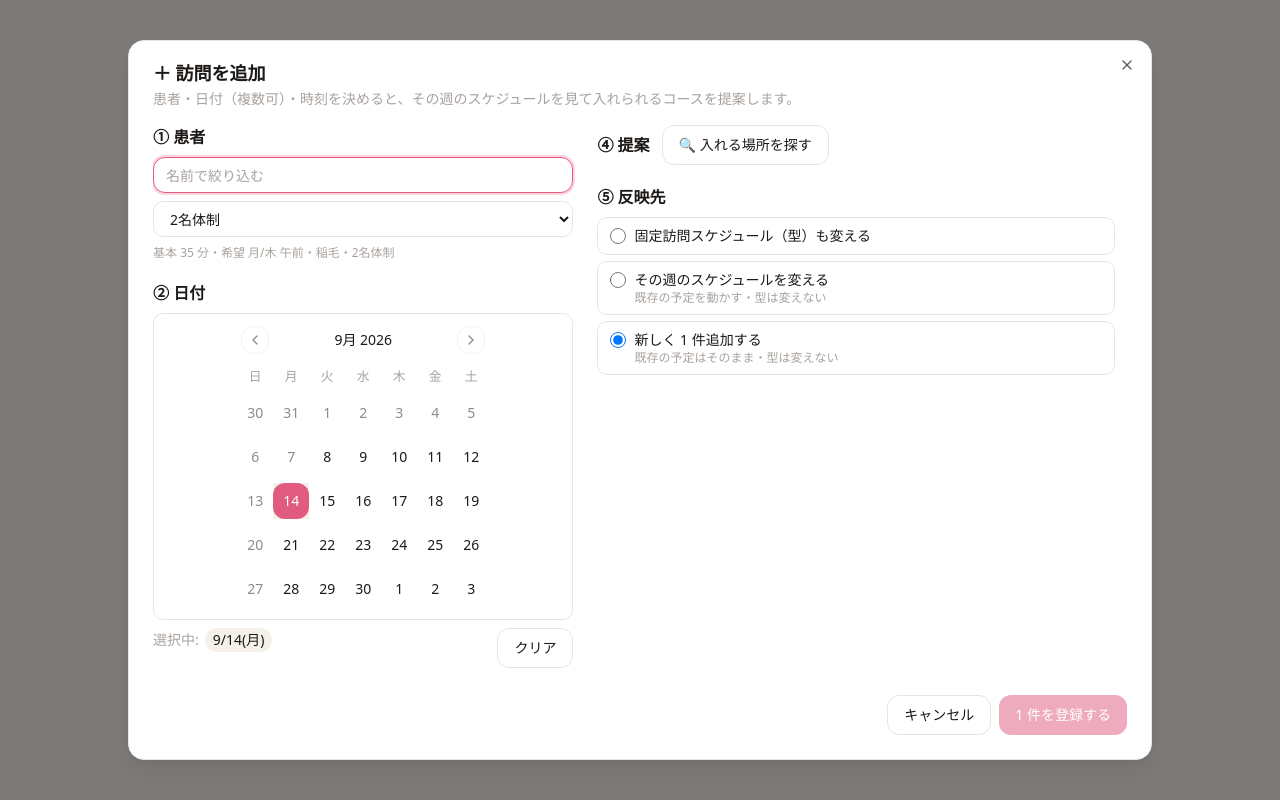
Test: AddVisitAnywhereDialog › H2 2 名体制の患者を M へ入れようとすると行エラーで止まる
Click the button with test id "ava-propose" at (745, 145), box [662, 125, 829, 165]
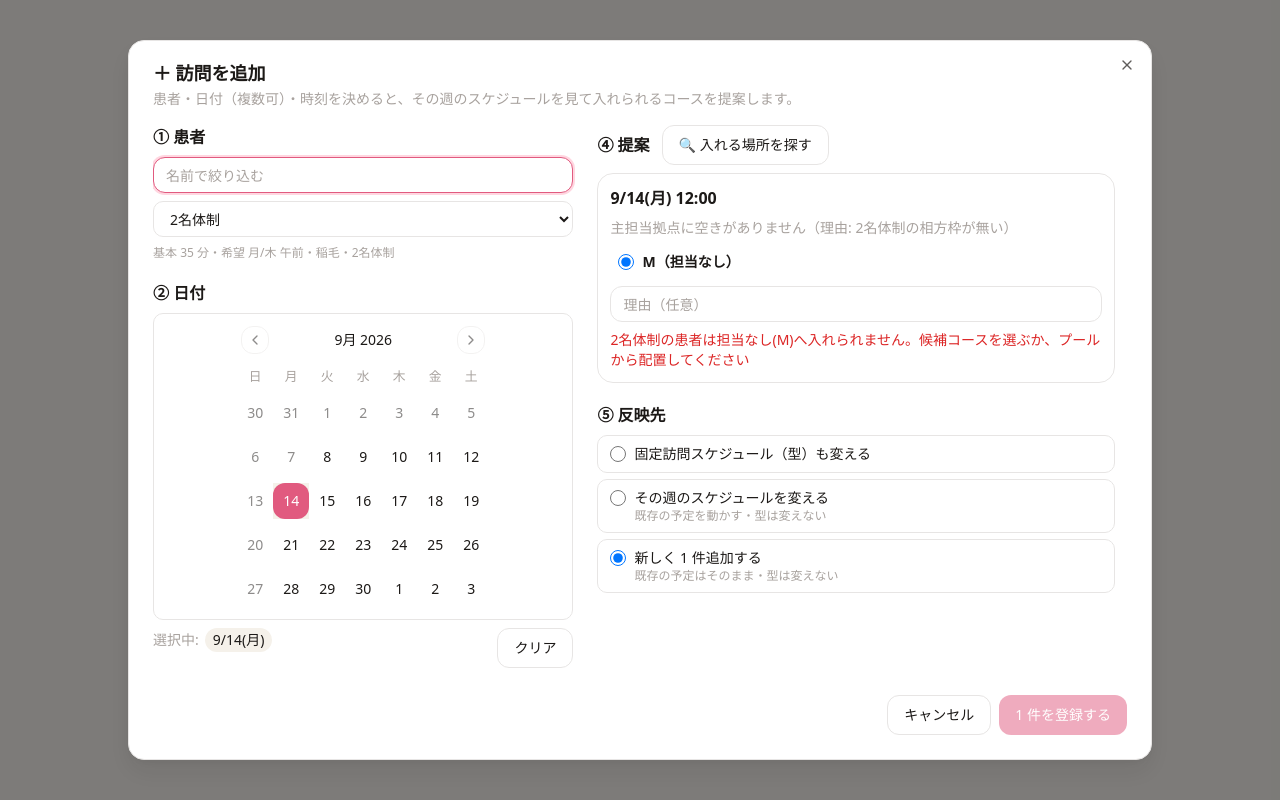
Now the element with test id "ava-row-2026-09-14" is shown, box [597, 173, 1115, 383]
Now the radio button with test id "ava-cand-2026-09-14-__M__" is checked, box [618, 254, 634, 270]
Now the text with test id "ava-row-error-2026-09-14" shows "2名体制の患者は担当なし(M)へ入れられません", box [610, 330, 1100, 369]
